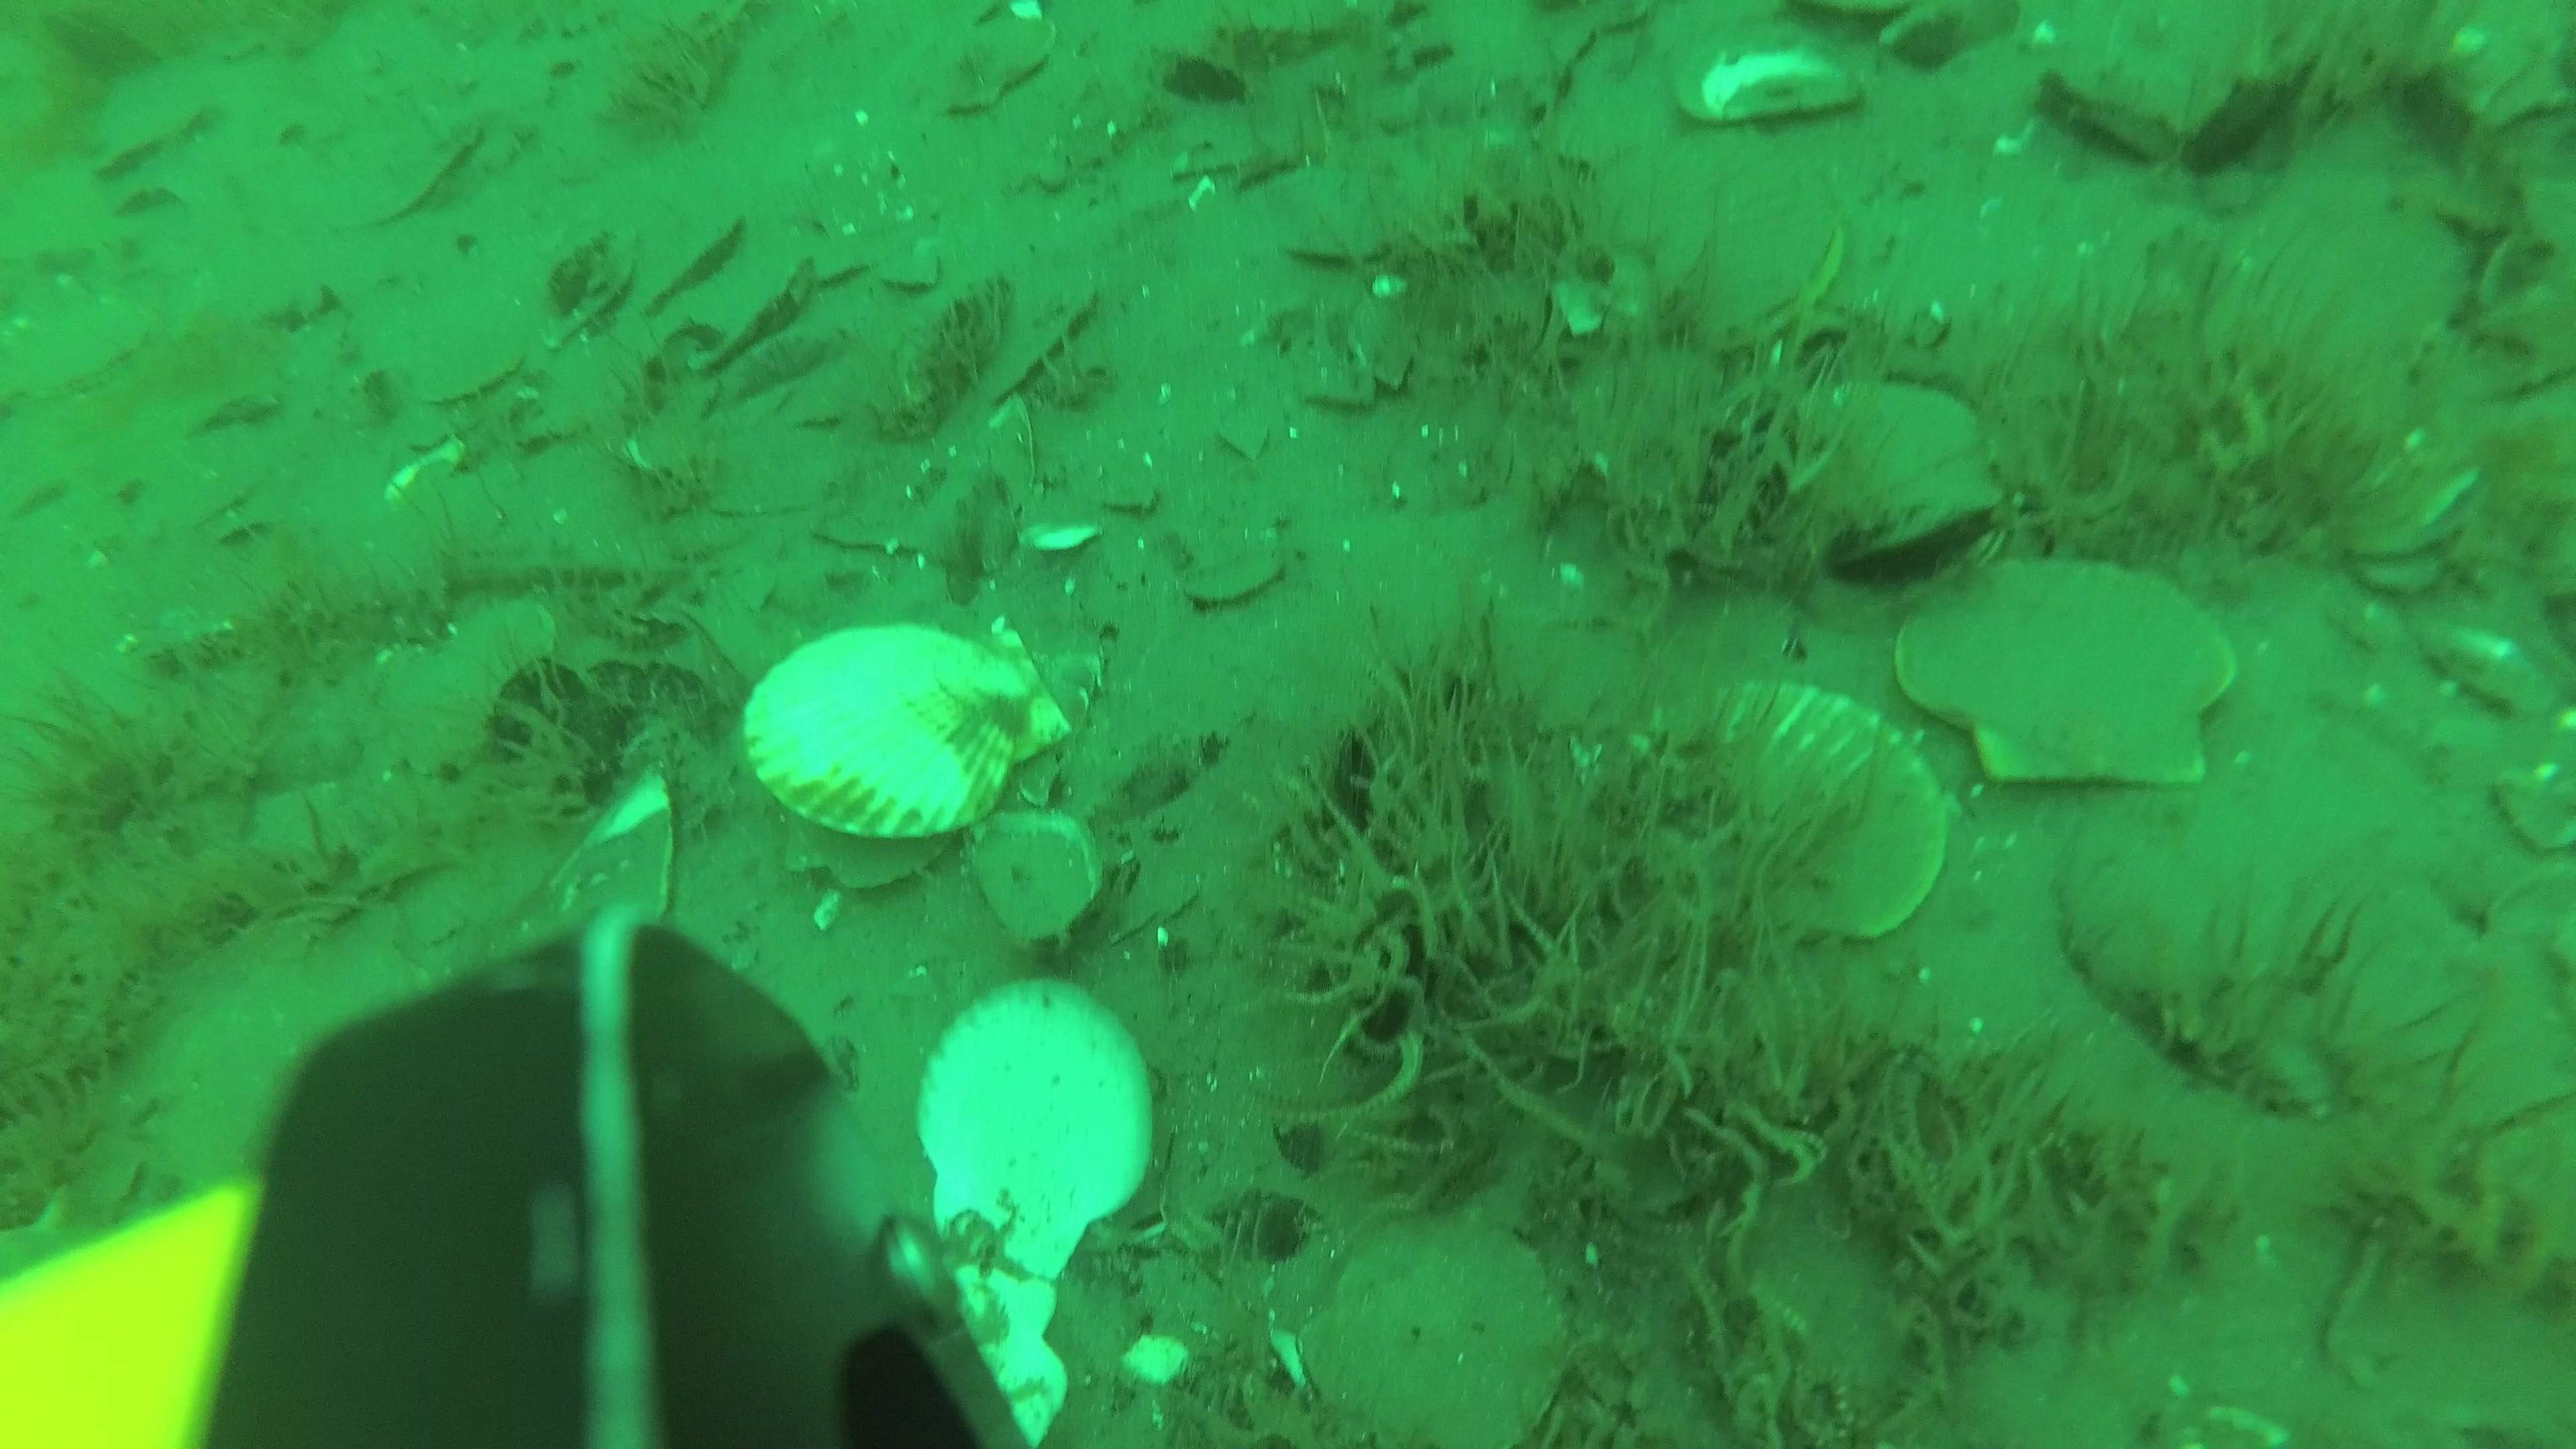scallop: (1615, 686, 1953, 954), (1898, 557, 2259, 793), (743, 619, 1074, 874), (1306, 1187, 1575, 1449), (908, 984, 1162, 1258), (1585, 136, 1851, 364), (1757, 384, 2001, 557), (2227, 202, 2468, 375), (5, 297, 150, 405), (943, 18, 1056, 119), (1182, 548, 1284, 619)
